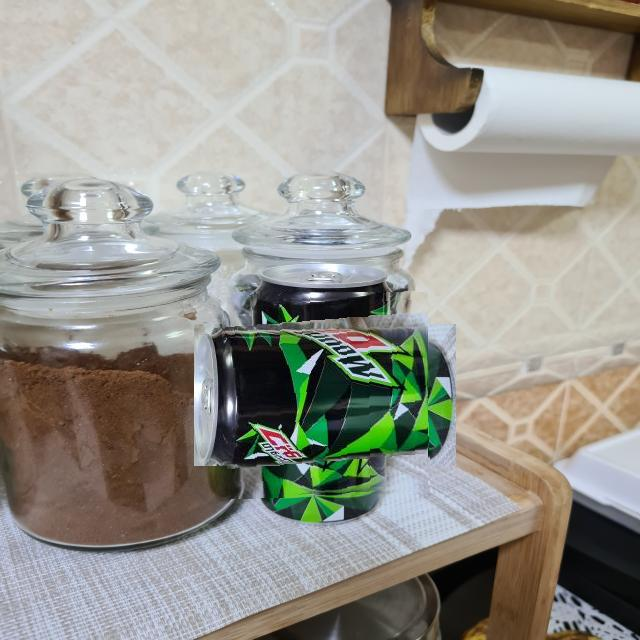recyclable: (223, 292, 428, 498)
